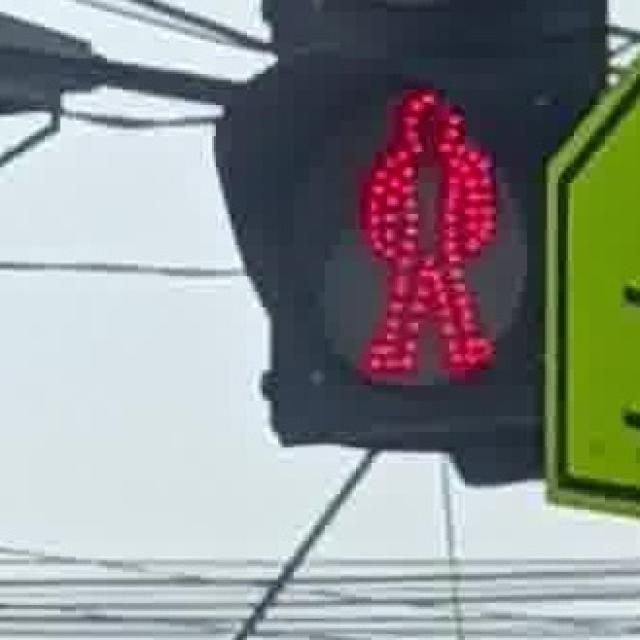red-crossing: (323, 70, 518, 397)
